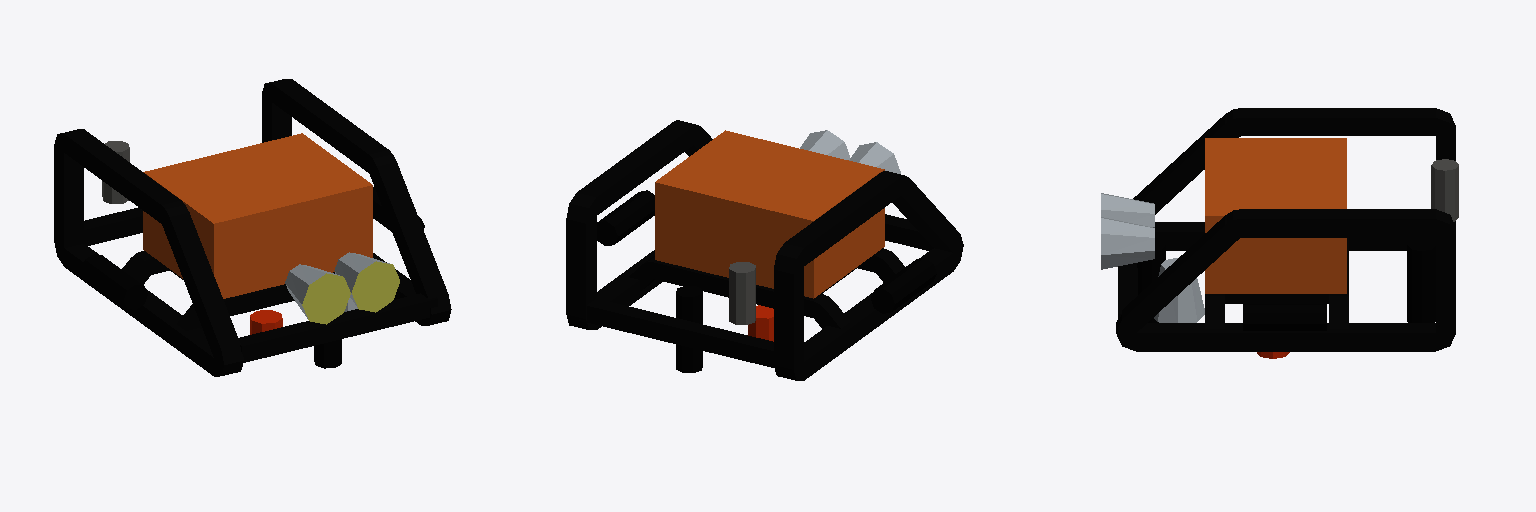
Rendered from hanse_low.obj.
The picture shows the model from 3 angles: view 1: azimuth 30°, elevation 25°; view 2: azimuth 150°, elevation 25°; view 3: azimuth 270°, elevation 25°; orthographic projection.
Size of the model in its own units: 6.15 by 3.61 by 6.34.